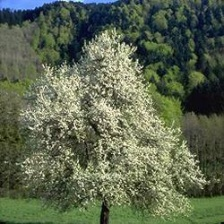neutral: (3, 2, 224, 224)
